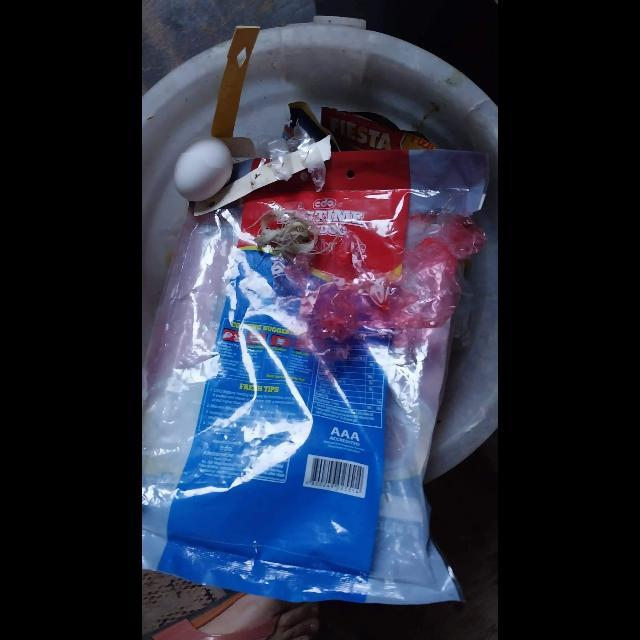biowaste: (174, 138, 234, 202)
wrapper: (142, 149, 489, 607), (320, 107, 435, 152)
